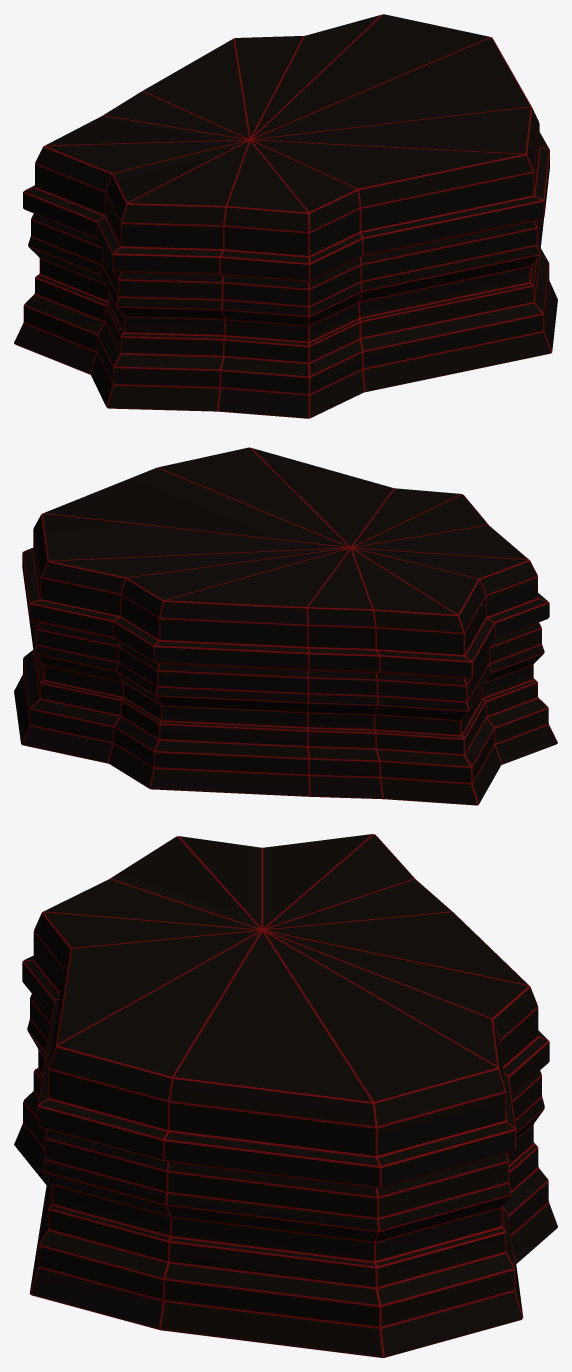
The model's file is Rock.fbx.
The picture shows the model from 3 angles, top to bottom: view 1: azimuth 30°, elevation 25°; view 2: azimuth 150°, elevation 25°; view 3: azimuth 270°, elevation 25°; orthographic projection. The views are drawn at different scales.
Visible parts, largest first — view 1: pCylinder11; view 2: pCylinder11; view 3: pCylinder11.
Boxes of the visible parts, x1,y1,x2,y2 form: pCylinder11: [14, 14, 557, 418]; pCylinder11: [14, 447, 557, 805]; pCylinder11: [14, 834, 557, 1357].
Bounding box in the file's own units: 152215 × 56927 × 116617.
